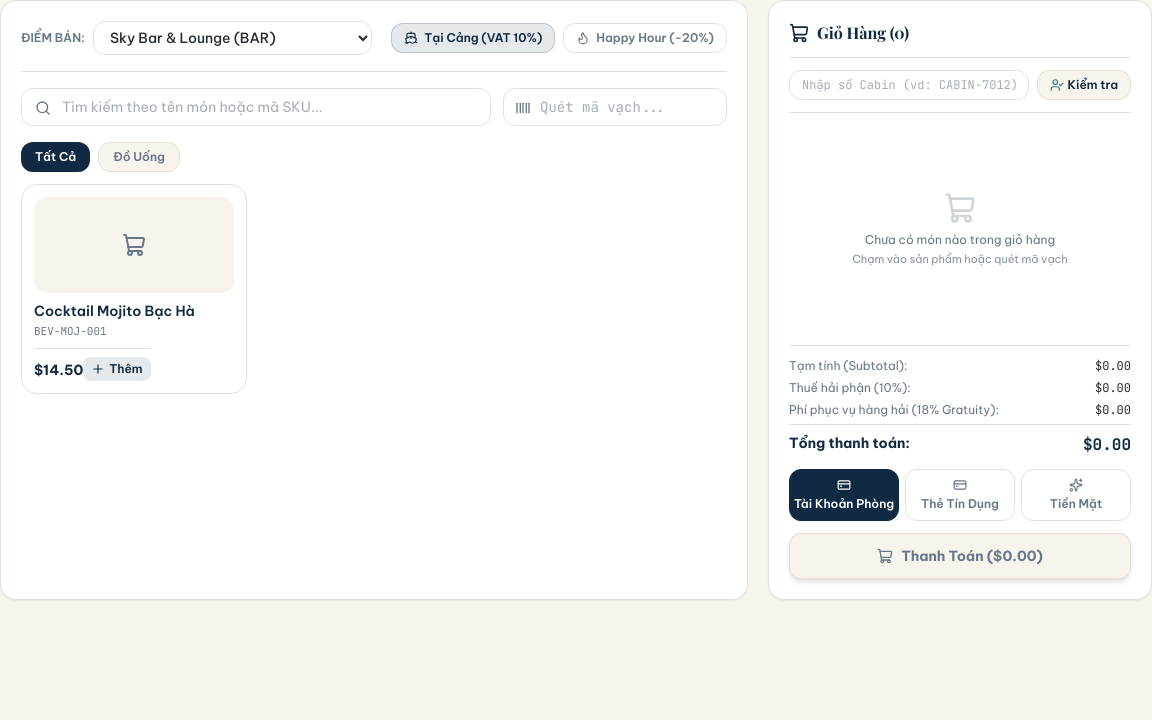
PosRegister Component Tests (KAN-234 & KAN-392) › submits checkout transaction successfully and opens receipt modal
Type "CABIN-7012" into the field with placeholder "Nhập số Cabin (vd: CABIN-7012)".
click(909, 85); type("CABIN-7012")  # box [789,70,1029,100]
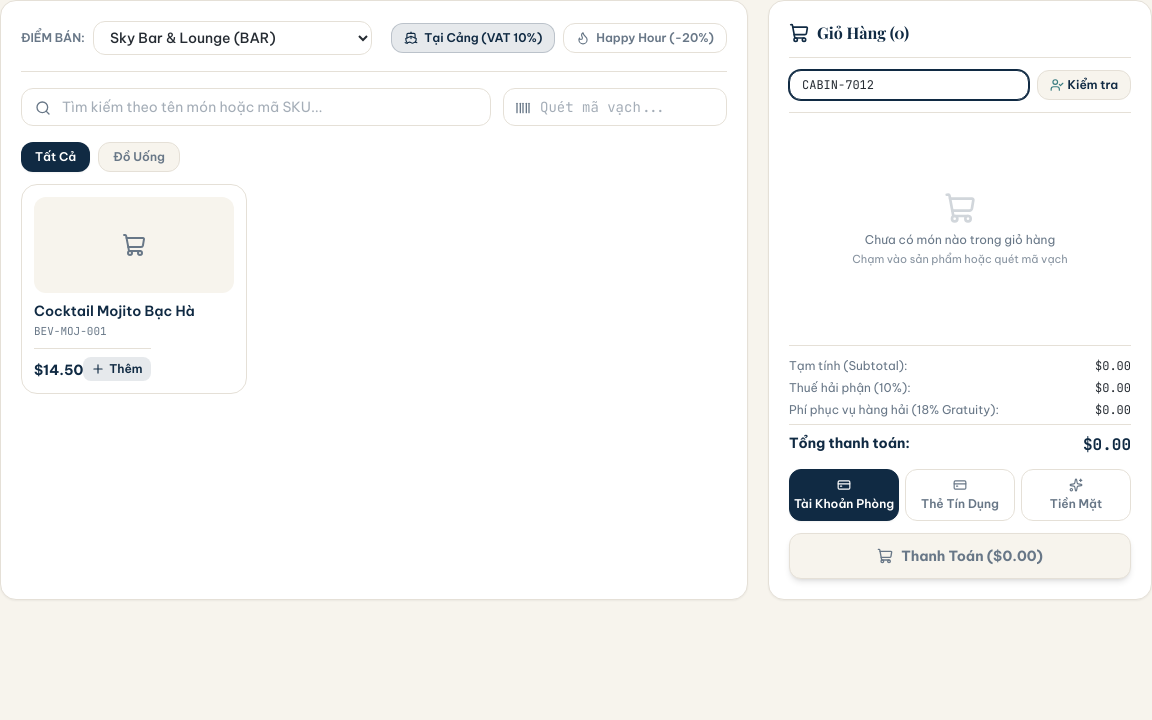
Note: Add item
Click the button "Cocktail Mojito Bạc Hà BEV-MOJ-001 $14.50 Thêm".
click(134, 289)  # box [21,184,247,394]
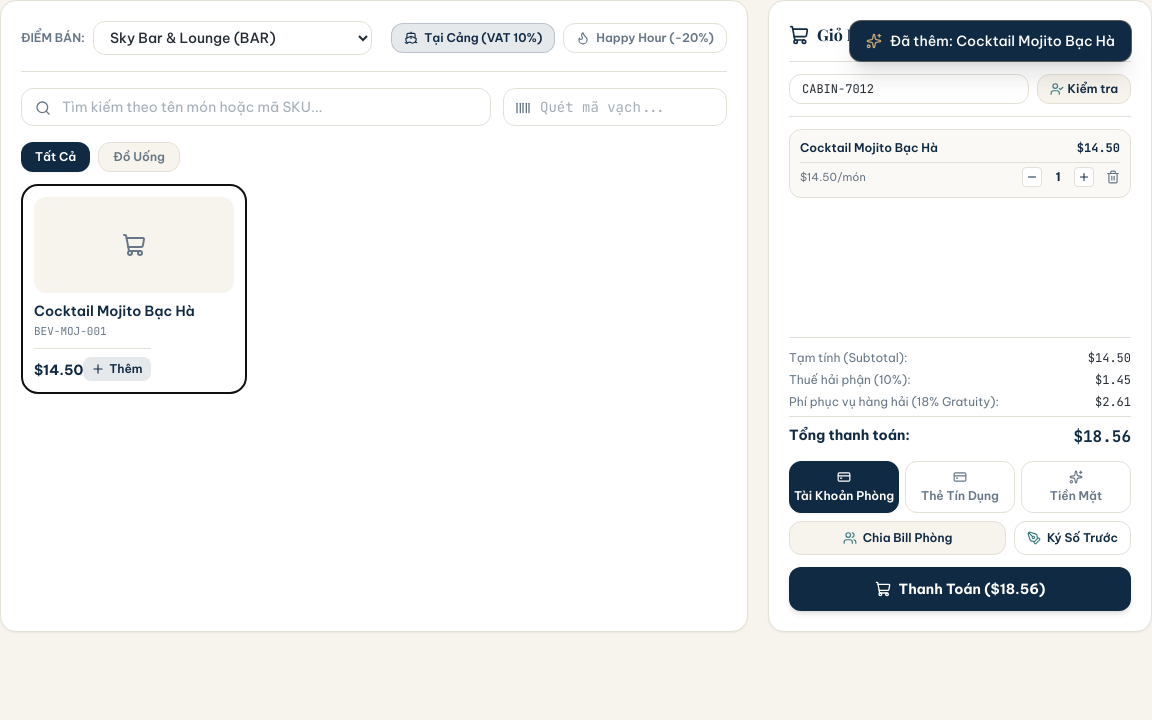
Note: Click checkout
Click the button "Thanh Toán ($18.56)".
click(960, 589)  # box [789,567,1131,611]
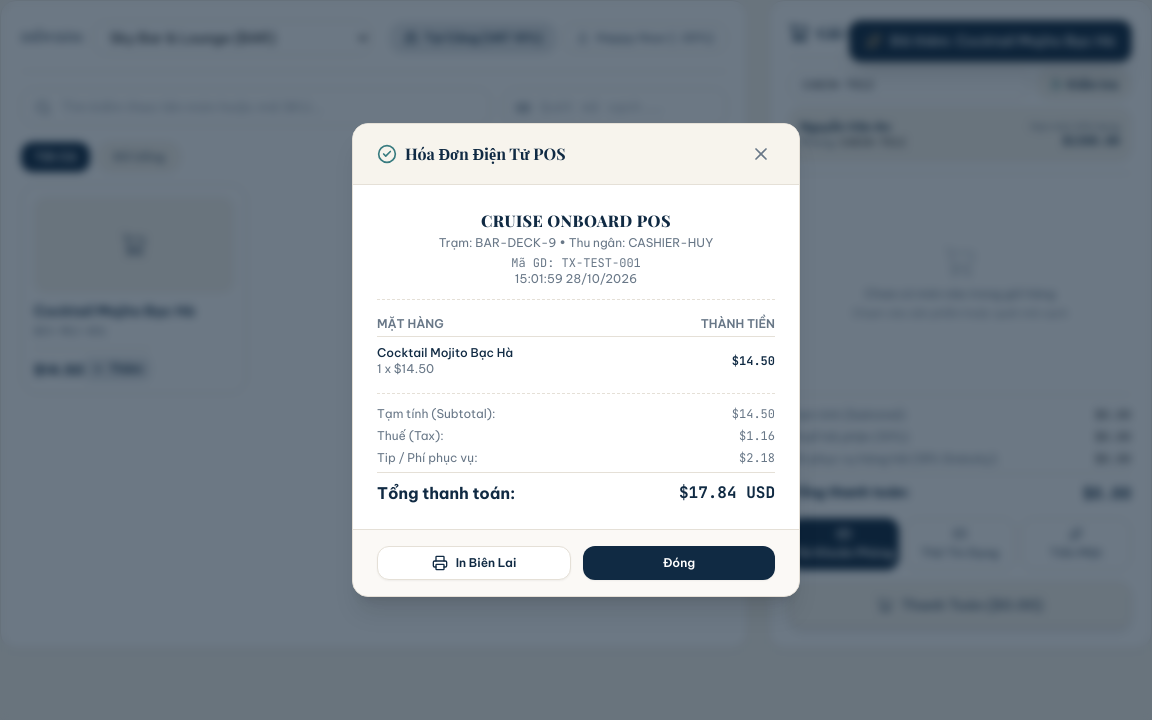
Check: the heading "Hóa Đơn Điện Tử POS" is shown, box [405,142,566,166]
Check: the text "Mã GD: TX-TEST-001" is shown, box [511,255,641,271]
